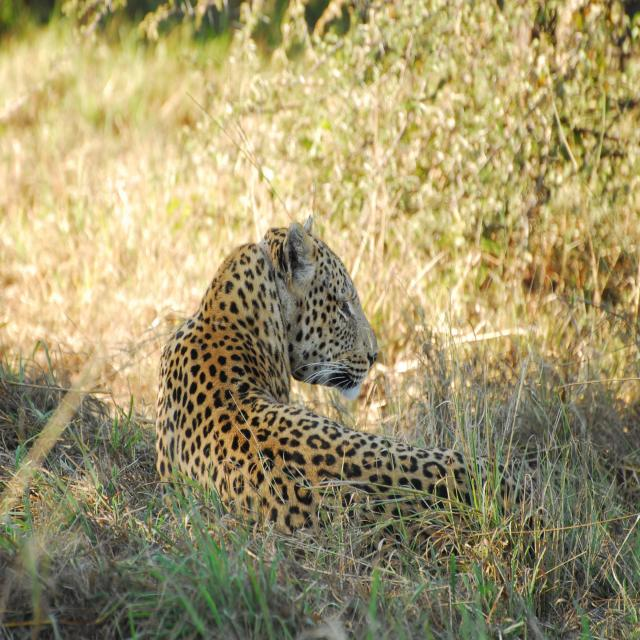Leopard: (141, 210, 595, 542)
